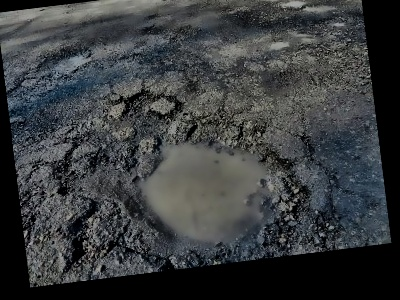pothole: (53, 98, 319, 281), (117, 87, 160, 118)
